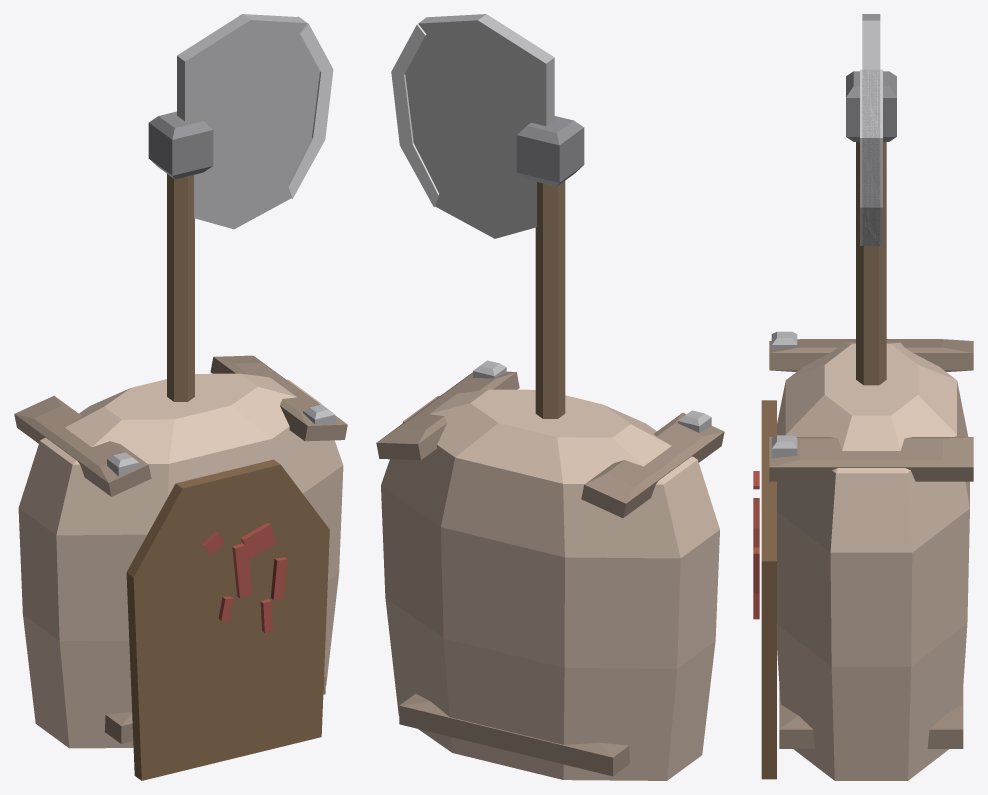
Rendered from headsman.glb.
The picture shows the model from 3 angles, left to right: view 1: azimuth 30°, elevation 25°; view 2: azimuth 150°, elevation 25°; view 3: azimuth 270°, elevation 25°; orthographic projection. The views are drawn at different scales.
Visible parts, largest first — view 1: Torso, Weapon, PauldronL, PauldronR; view 2: Torso, Weapon, PauldronL, PauldronR; view 3: Torso, Weapon, PauldronR, PauldronL.
Boxes of the visible parts, x1,y1,x2,y2 form: Torso: (18,373,343,780); Weapon: (148,14,333,401); PauldronL: (14,395,151,496); PauldronR: (210,355,347,441); Torso: (381,389,719,780); Weapon: (391,14,584,418); PauldronL: (581,410,724,517); PauldronR: (376,360,519,460); Torso: (753,342,969,780); Weapon: (846,14,896,385); PauldronR: (769,435,973,481); PauldronL: (769,331,973,371).
Size of the model in its own units: 0.7111 by 1.61 by 0.431.
